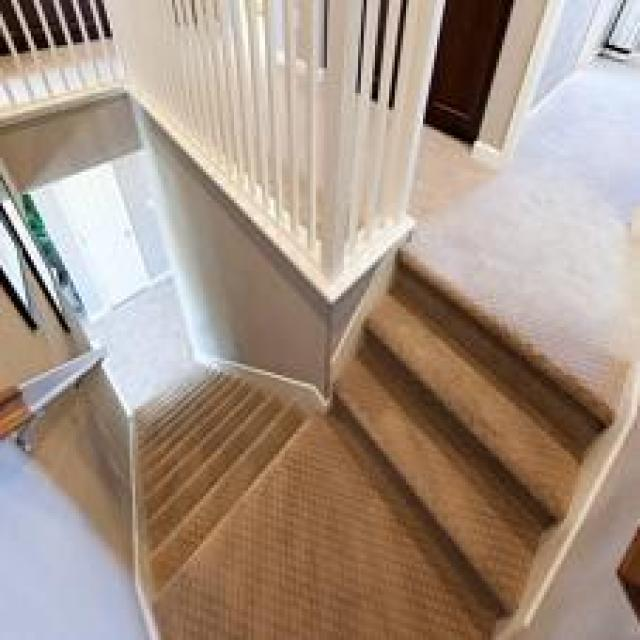downstair: (125, 365, 320, 568)
